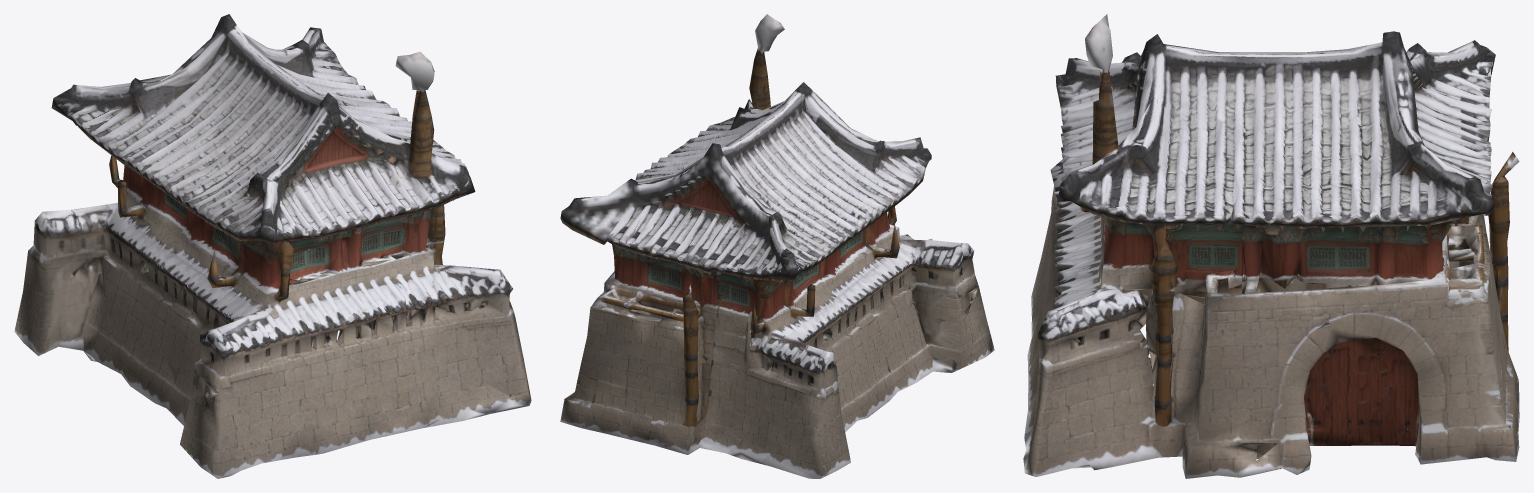
File: PR_PalaceSideGate_02.fbx
The picture shows the model from 3 angles, left to right: view 1: azimuth 30°, elevation 25°; view 2: azimuth 150°, elevation 25°; view 3: azimuth 270°, elevation 25°; orthographic projection. The views are drawn at different scales.
Parts seen in each view (by area): view 1: texture_mapping; view 2: texture_mapping; view 3: texture_mapping.
Part boxes in pixels (<box>): texture_mapping: <box>14,14,531,478</box>; texture_mapping: <box>560,14,994,478</box>; texture_mapping: <box>1023,14,1519,478</box>.
Size of the model in its own units: 0.868 by 0.9883 by 0.9027.
1 material, 1 textured.
